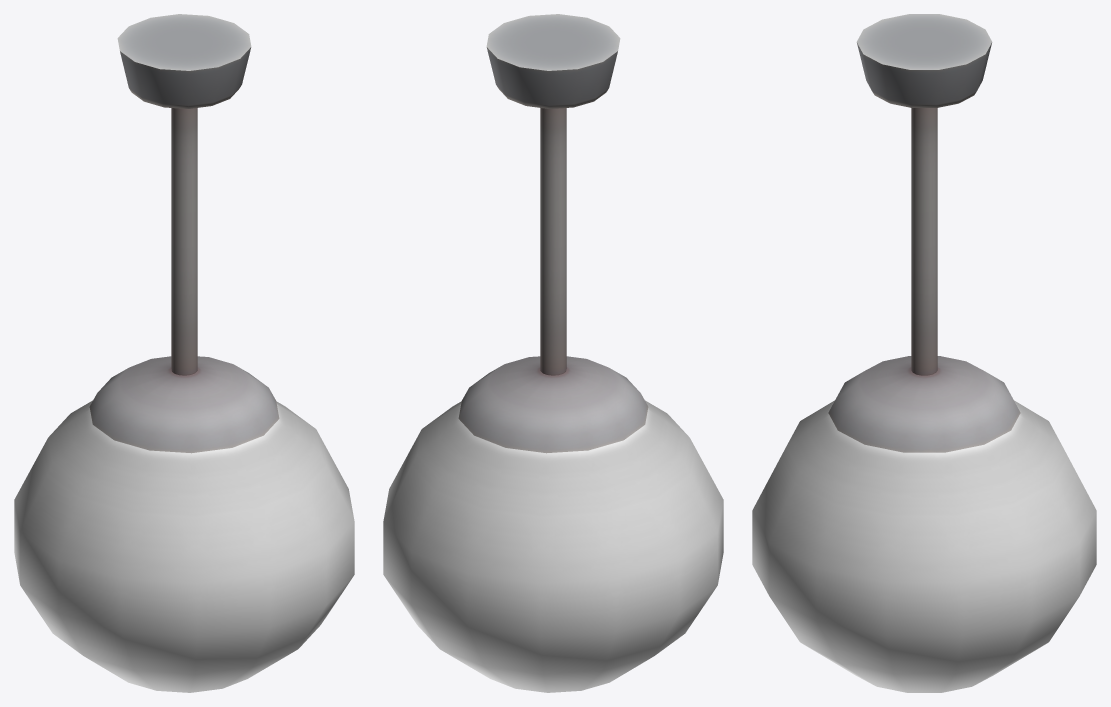
The model's file is CafeLampCeiling02.FBX.
3 renders of one model, left to right at view 1: azimuth 30°, elevation 25°; view 2: azimuth 150°, elevation 25°; view 3: azimuth 270°, elevation 25°, orthographic.
Visible parts, largest first — view 1: CafeLampCeiling02; view 2: CafeLampCeiling02; view 3: CafeLampCeiling02.
Part boxes in pixels (<box>): CafeLampCeiling02: <box>14,14,354,692</box>; CafeLampCeiling02: <box>383,14,723,692</box>; CafeLampCeiling02: <box>752,14,1096,692</box>.
Size of what is drawn, in the model's own units: 0.4067 by 0.8418 by 0.4171.
